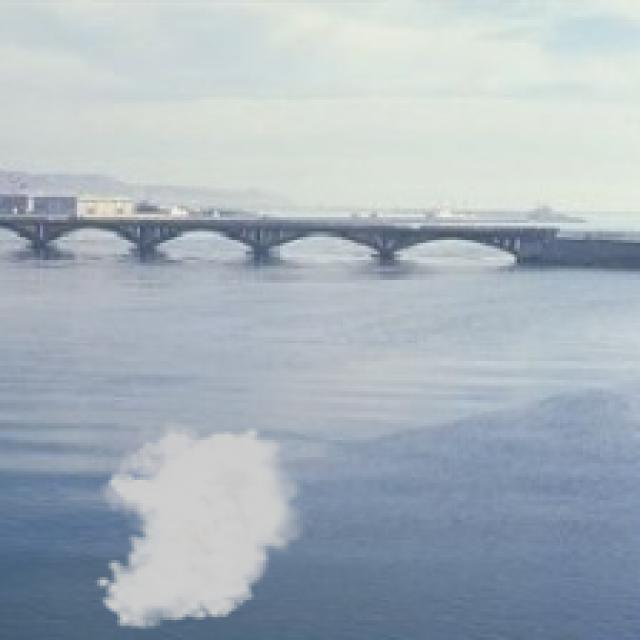smoke: (95, 414, 312, 632)
